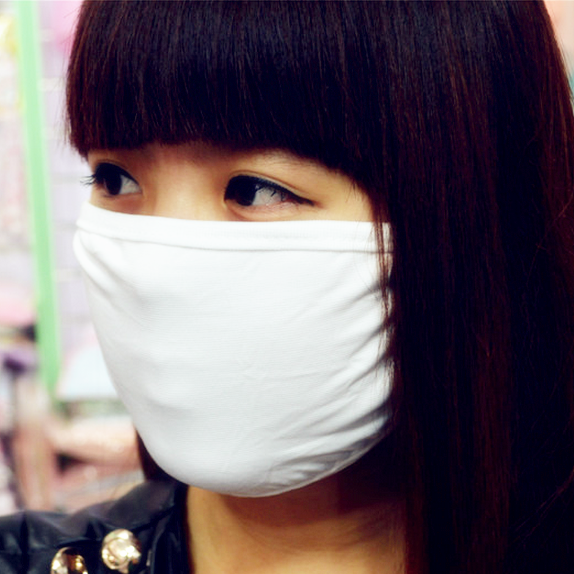face_mask: (84, 66, 392, 491)
